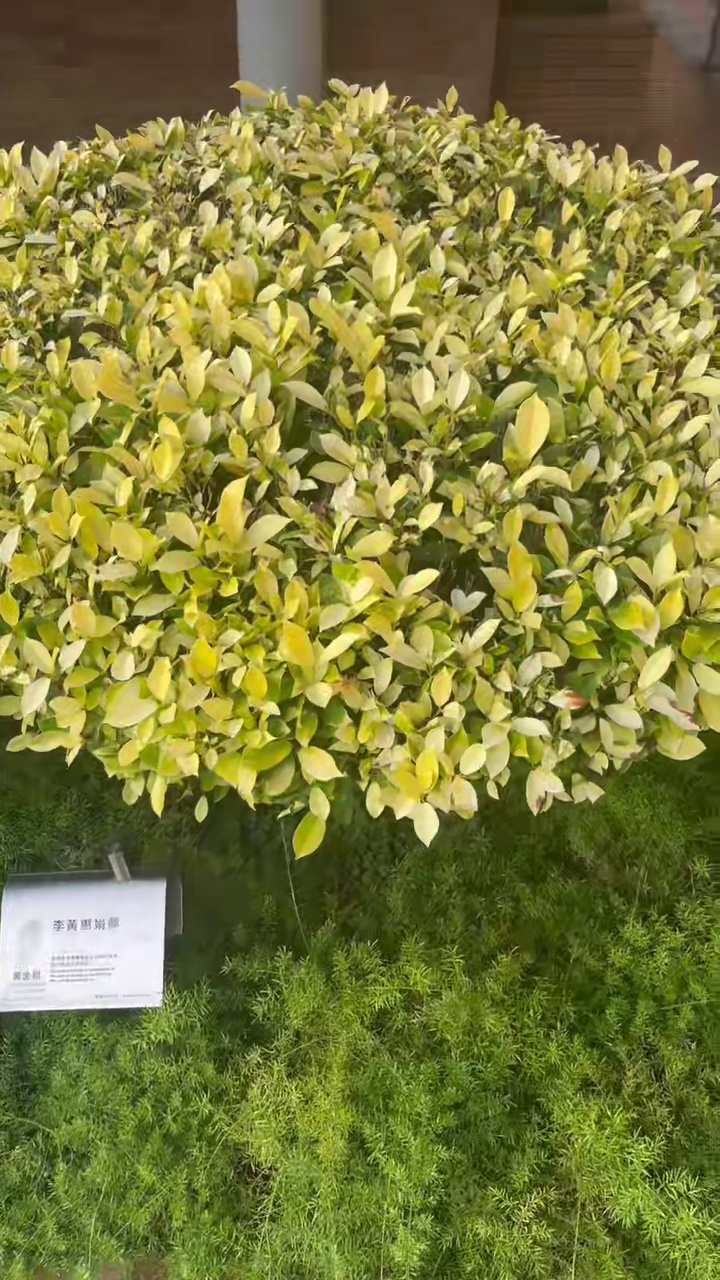Golden-leaves Fig: (0, 82, 719, 856)
